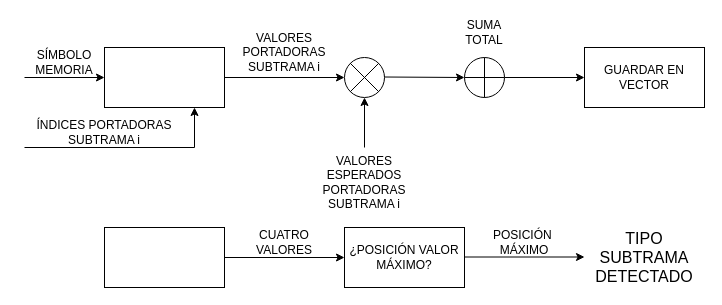
Image size: 722x305. Some labels were removed from this diagram. Here are the shapes that lost their labels. From the top down, the box of each, then its label:
(104, 46, 224, 108): TOMAR VALORES EN ÍNDICES DE PORTADORAS
(104, 226, 224, 288): VECTOR
